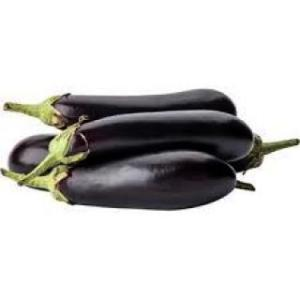eggplant: (28, 148, 234, 210), (39, 110, 253, 162), (28, 89, 236, 130)
